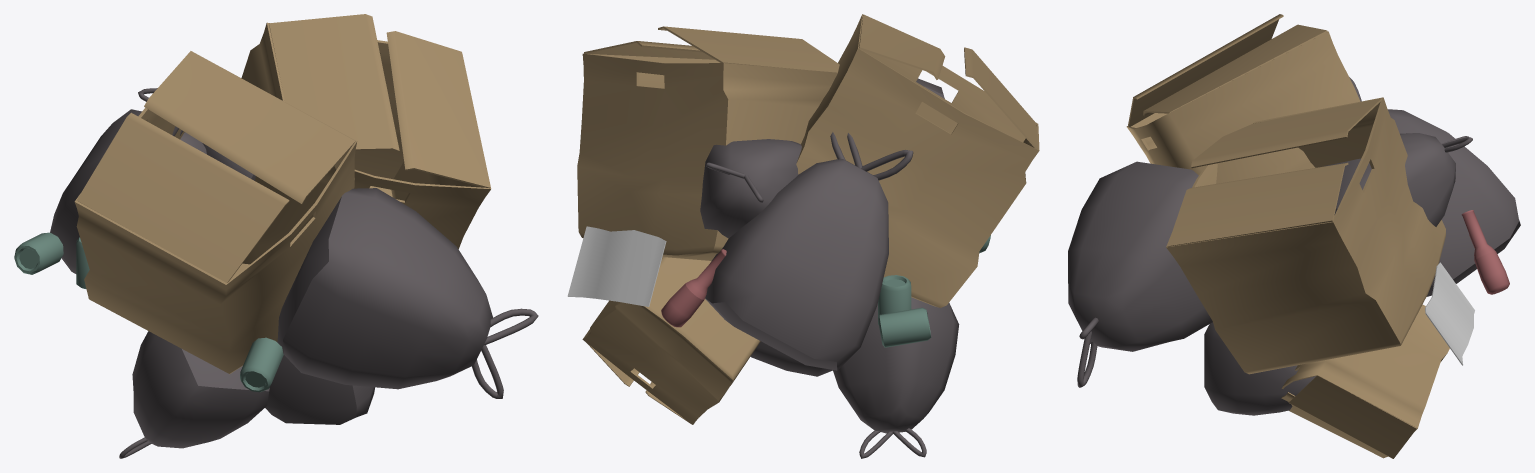
The model's file is GarbageHeap.fbx.
The picture shows the model from 3 angles, left to right: view 1: azimuth 30°, elevation 25°; view 2: azimuth 150°, elevation 25°; view 3: azimuth 270°, elevation 25°; orthographic projection. The views are drawn at different scales.
Parts seen in each view (by area): view 1: Garb_Box__1_, Garb_Box, Garb_Bag__2_, Garb_Bag__4_, Garb_Bag__3_, Garb_Bag, Garb_Soda__2_, Garb_Soda__1_, Garb_Bag__1_; view 2: Garb_Box, Garb_Box__1_, Garb_Bag, Garb_Box__2_, Garb_Bag__4_, Garb_Bag__1_, Garb_Paper, Garb_Beer, Garb_Soda__1_, Garb_Soda, Garb_Bag__3_; view 3: Garb_Box, Garb_Box__1_, Garb_Bag__2_, Garb_Box__2_, Garb_Bag, Garb_Bag__3_, Garb_Bag__1_, Garb_Paper, Garb_Beer.
Part boxes in pixels (x1,y1,x2,y2): Garb_Box__1_: [74, 51, 357, 374]; Garb_Box: [241, 14, 491, 264]; Garb_Bag__2_: [277, 188, 538, 398]; Garb_Bag__4_: [119, 331, 269, 458]; Garb_Bag__3_: [265, 341, 374, 424]; Garb_Bag: [50, 109, 206, 273]; Garb_Soda__2_: [240, 337, 283, 392]; Garb_Soda__1_: [14, 232, 63, 274]; Garb_Bag__1_: [138, 88, 255, 180]; Garb_Box: [577, 26, 839, 260]; Garb_Box__1_: [796, 14, 1039, 307]; Garb_Bag: [705, 132, 913, 370]; Garb_Box__2_: [582, 257, 760, 424]; Garb_Bag__4_: [833, 297, 959, 458]; Garb_Bag__1_: [700, 139, 801, 238]; Garb_Paper: [567, 226, 666, 306]; Garb_Beer: [661, 249, 726, 327]; Garb_Soda__1_: [878, 307, 931, 347]; Garb_Soda: [878, 275, 911, 324]; Garb_Bag__3_: [750, 341, 832, 376]; Garb_Box: [1166, 97, 1445, 374]; Garb_Box__1_: [1126, 14, 1360, 183]; Garb_Bag__2_: [1068, 161, 1212, 387]; Garb_Box__2_: [1281, 304, 1449, 458]; Garb_Bag: [1349, 77, 1520, 296]; Garb_Bag__3_: [1204, 322, 1315, 415]; Garb_Bag__1_: [1324, 133, 1472, 226]; Garb_Paper: [1425, 262, 1474, 365]; Garb_Beer: [1461, 210, 1509, 294].
Size of the model in its own units: 226 by 202 by 224.
